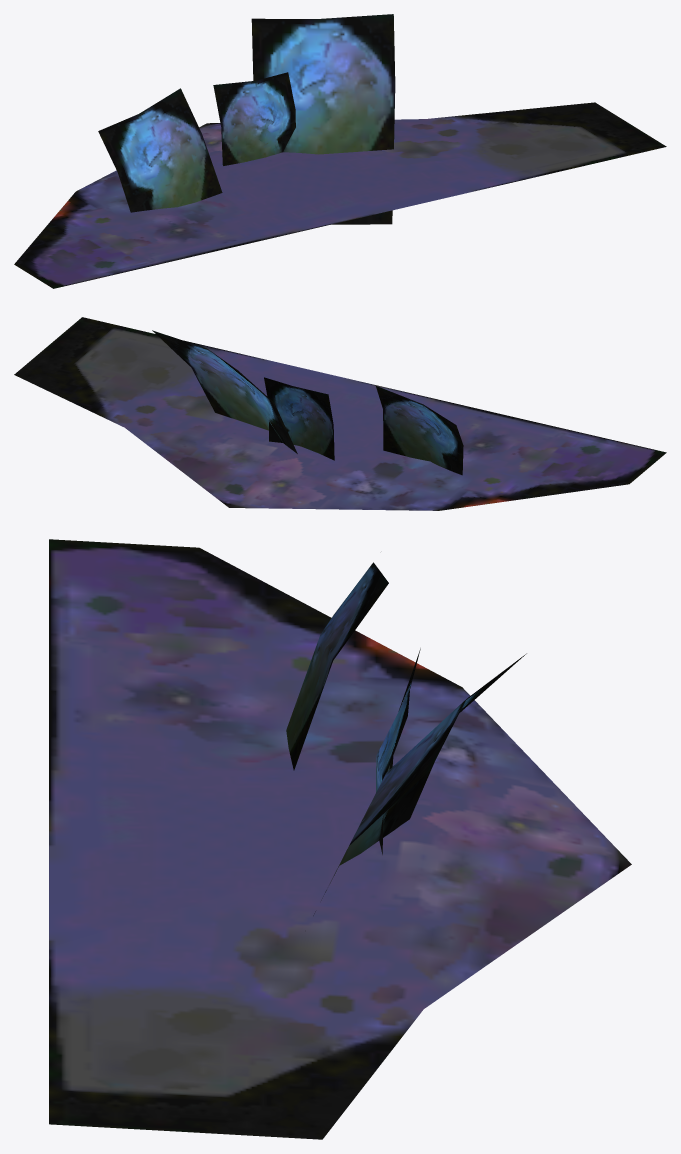
Rendered from flower_E.fbx.
3 views of the same model, one above another, from view 1: azimuth 30°, elevation 25°; view 2: azimuth 150°, elevation 25°; view 3: azimuth 270°, elevation 25° (orthographic). The views are drawn at different scales.
Visible parts, largest first — view 1: flower_E; view 2: flower_E; view 3: flower_E.
Part boxes in pixels (<box>): flower_E: <box>14,14,666,288</box>; flower_E: <box>14,317,666,510</box>; flower_E: <box>49,539,631,1139</box>.
Size of the model in its own units: 3.66 by 0.9631 by 1.58.
